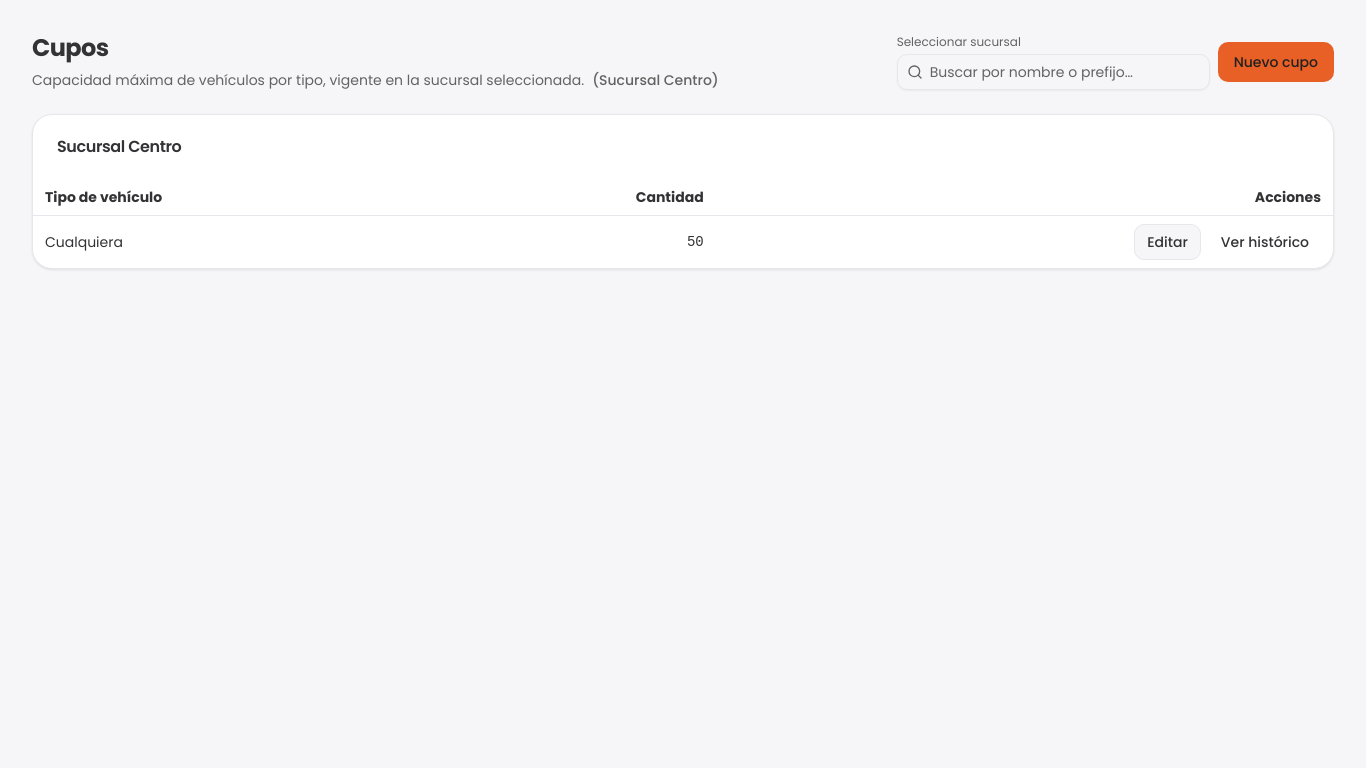
Test: Cupos page › CP4: clicking "Editar" opens the modal pre-filled with the cupo row
Expected: the row with test id "cupo-row-aaaaaaaa-1111-1111-1111-111111111111" is shown, [33,216,1333,268]
What coordinates should you click on to do the following:
click the button with test id "cupo-edit-aaaaaaaa-1111-1111-1111-111111111111"
I would click on:
 (1168, 242)
Its box is [1134,224,1201,260].
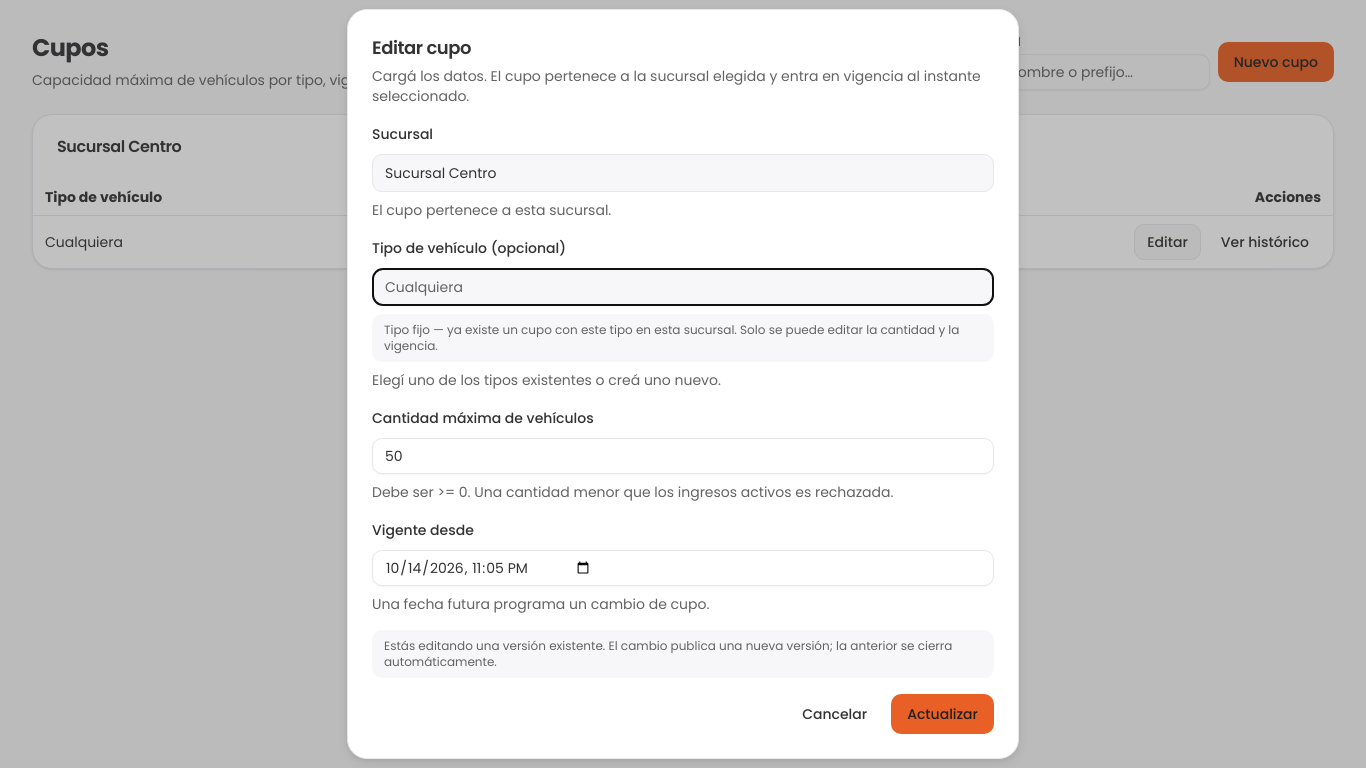
Expected: the dialog with test id "cupo-form-modal" is shown, [347,9,1019,759]
Expected: the number field with test id "cupo-field-cantidad" holds "50", [372,438,994,474]
Expected: the text with test id "cupo-form-editing" is shown, [372,630,994,678]
